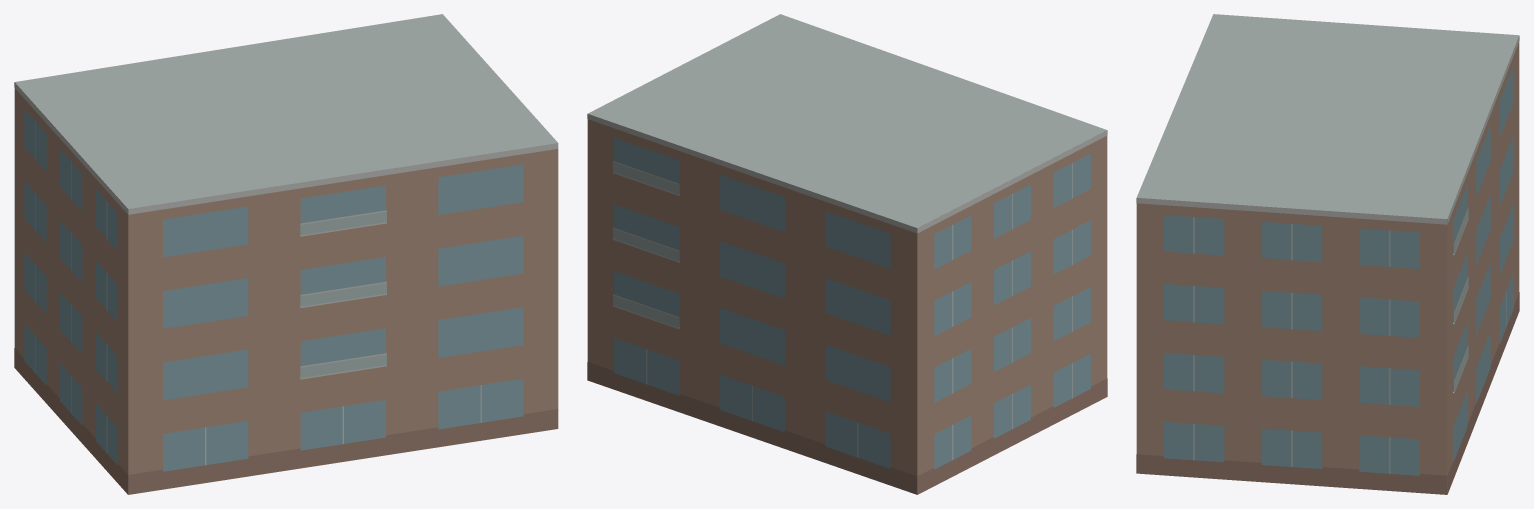
File: survey-upis-32991540.glb
3 renders of one model, left to right at view 1: azimuth 30°, elevation 25°; view 2: azimuth 150°, elevation 25°; view 3: azimuth 270°, elevation 25°, orthographic. The views are drawn at different scales.
Parts seen in each view (by area): view 1: survey-upis-32991540.tmp; view 2: survey-upis-32991540.tmp; view 3: survey-upis-32991540.tmp.
Part boxes in pixels (left/top/right/bottom): survey-upis-32991540.tmp: left=14, top=14, right=558, bottom=494; survey-upis-32991540.tmp: left=587, top=14, right=1107, bottom=494; survey-upis-32991540.tmp: left=1136, top=14, right=1519, bottom=494.
Bounding box in the file's own units: 19.48 × 12.2 × 15.37.
